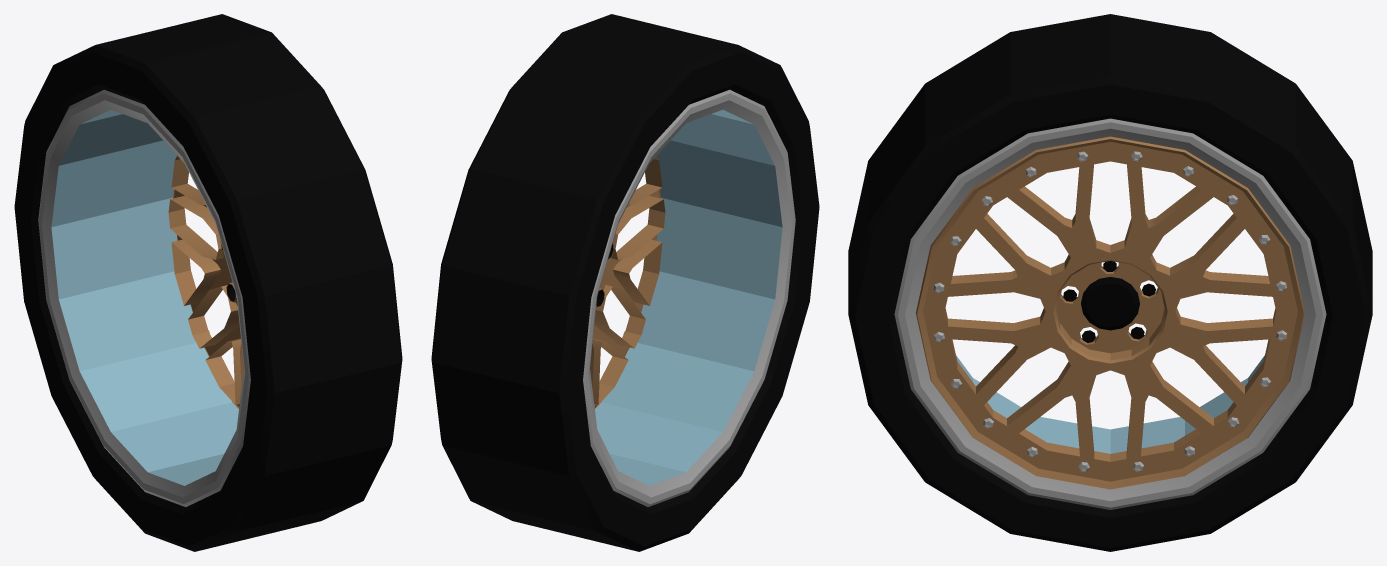
The model's file is bss.glb.
3 views of the same model, side by side, from view 1: azimuth 30°, elevation 25°; view 2: azimuth 150°, elevation 25°; view 3: azimuth 270°, elevation 25° (orthographic).
Visible parts, largest first — view 1: rim; view 2: rim; view 3: rim.
Part boxes in pixels (x1=…): rim: x1=14, y1=14, x2=402, y2=551; rim: x1=431, y1=14, x2=819, y2=551; rim: x1=848, y1=14, x2=1372, y2=551.
Size of the model in its own units: 0.6021 by 2 by 2.
